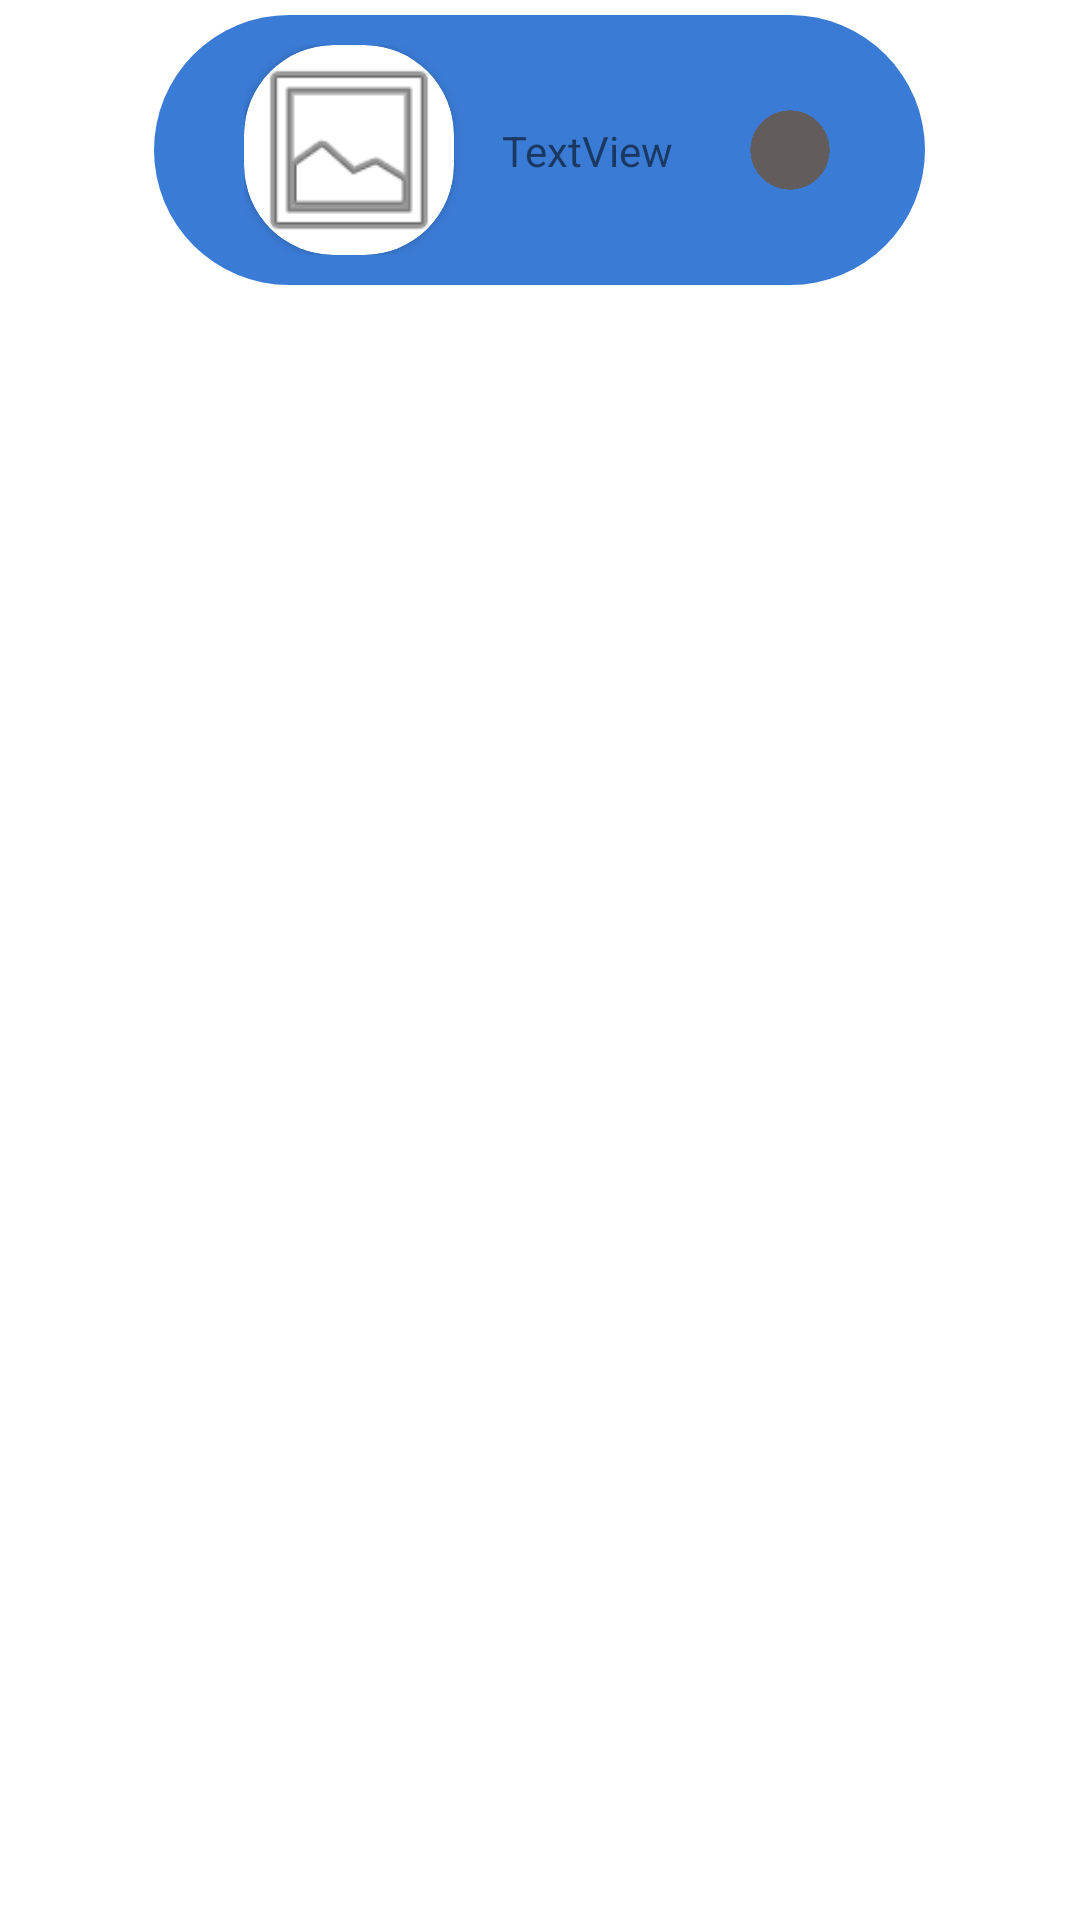

Icons on this 1080×1920 Android screen, each with its box as (x1, y1, x2, y2):
gallery: (244, 45, 454, 255)
